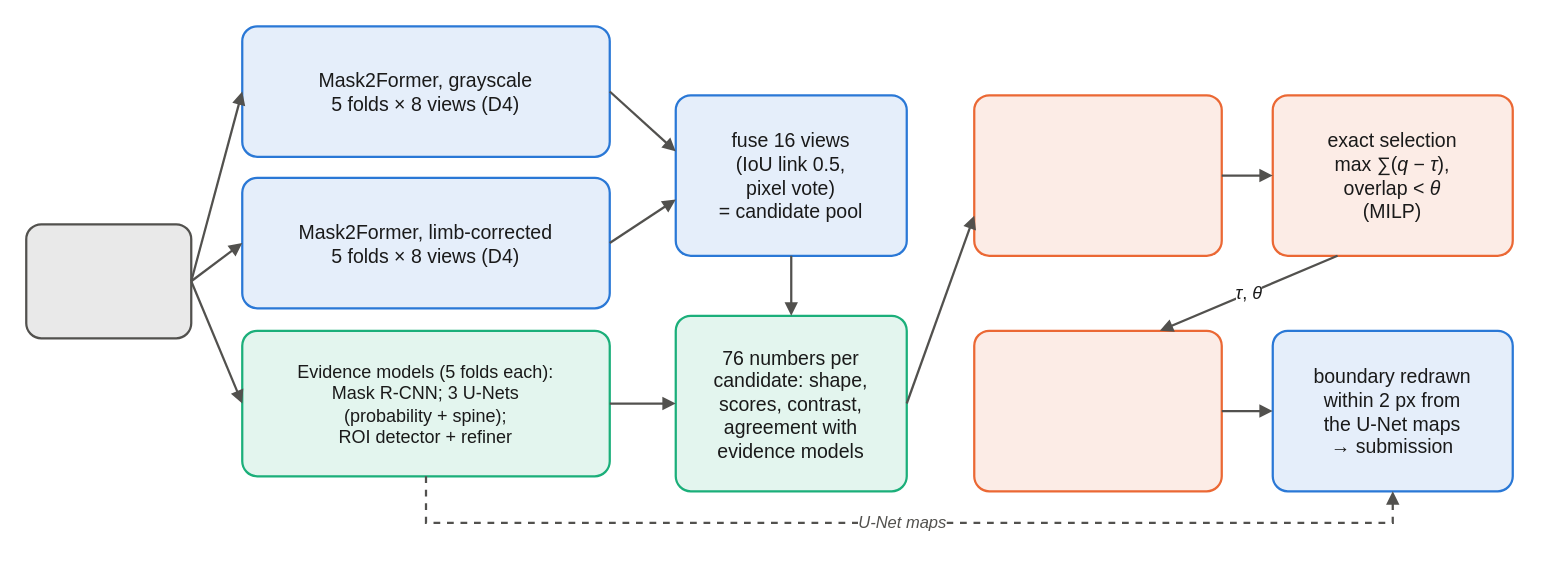
Image size: 1541x561. Some labels were removed from this diagram. The shapes that lost their labels are listed below. From the top down, each one's centre as x and y in pixels, then its label:
At [1097,174]: "LightGBM scorer q = expected matched IoU (cross-fitted)".
At [108,280]: "H- α photo 2048×2048".
At [1097,410]: "on test: candidates of the 5 fold models fused, then selected with the OOF τ , θ".
